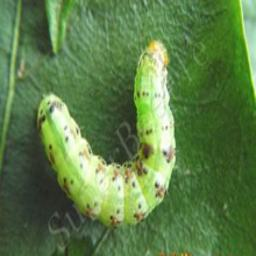Tobacco_budworm: (36, 39, 176, 229)
